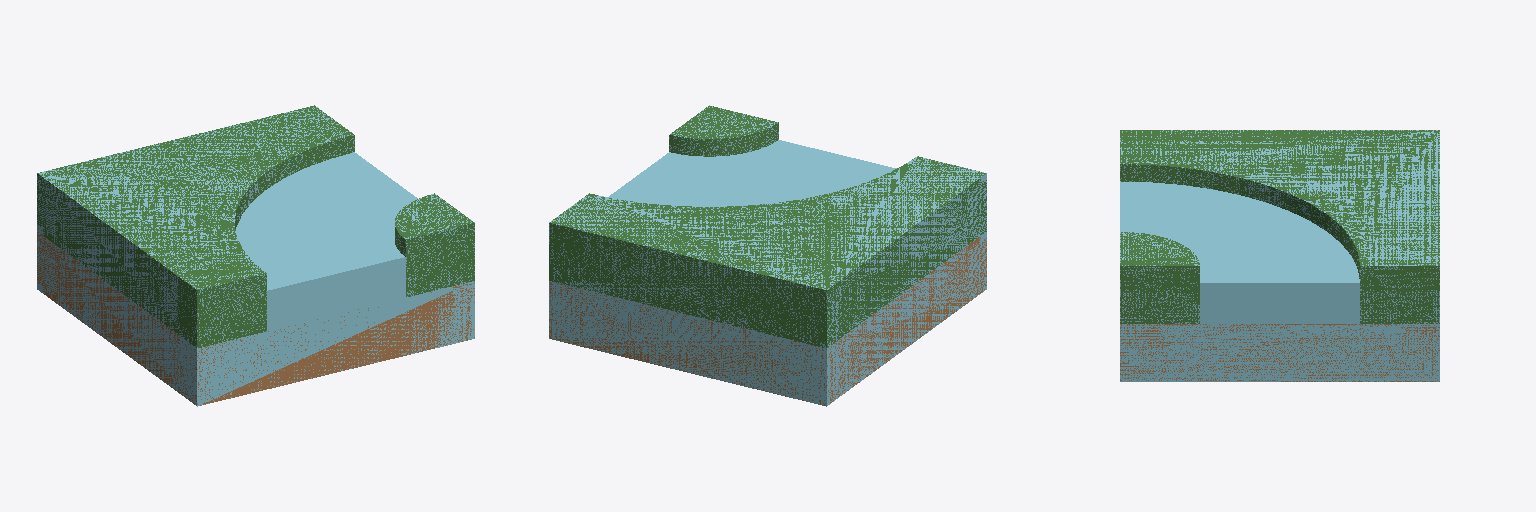
The model's file is tile_084.obj.
3 renders of one model, left to right at view 1: azimuth 30°, elevation 25°; view 2: azimuth 150°, elevation 25°; view 3: azimuth 270°, elevation 25°, orthographic.
Parts seen in each view (by area): view 1: tile_084; view 2: tile_084; view 3: tile_084.
Boxes of the visible parts, box(x1,y1,x2,y2) form: tile_084: box(37, 105, 474, 406); tile_084: box(549, 105, 986, 406); tile_084: box(1120, 130, 1439, 381).
Size of the model in its own units: 1 by 0.4 by 1.